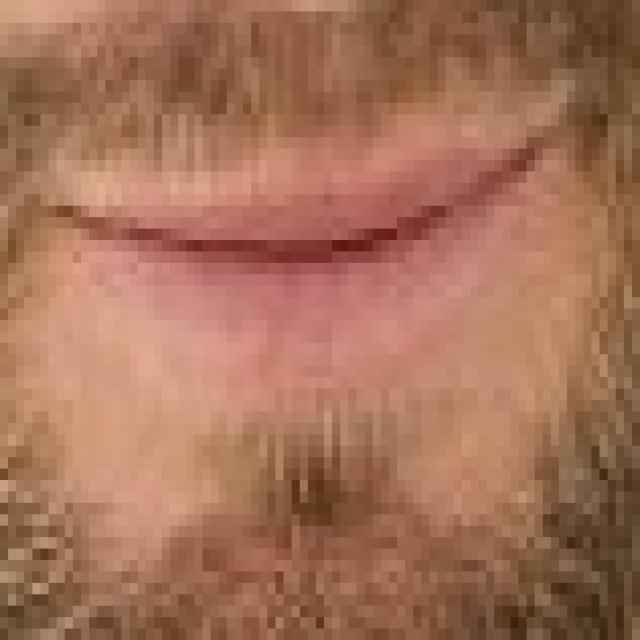closed-mouth: (34, 90, 577, 383)
